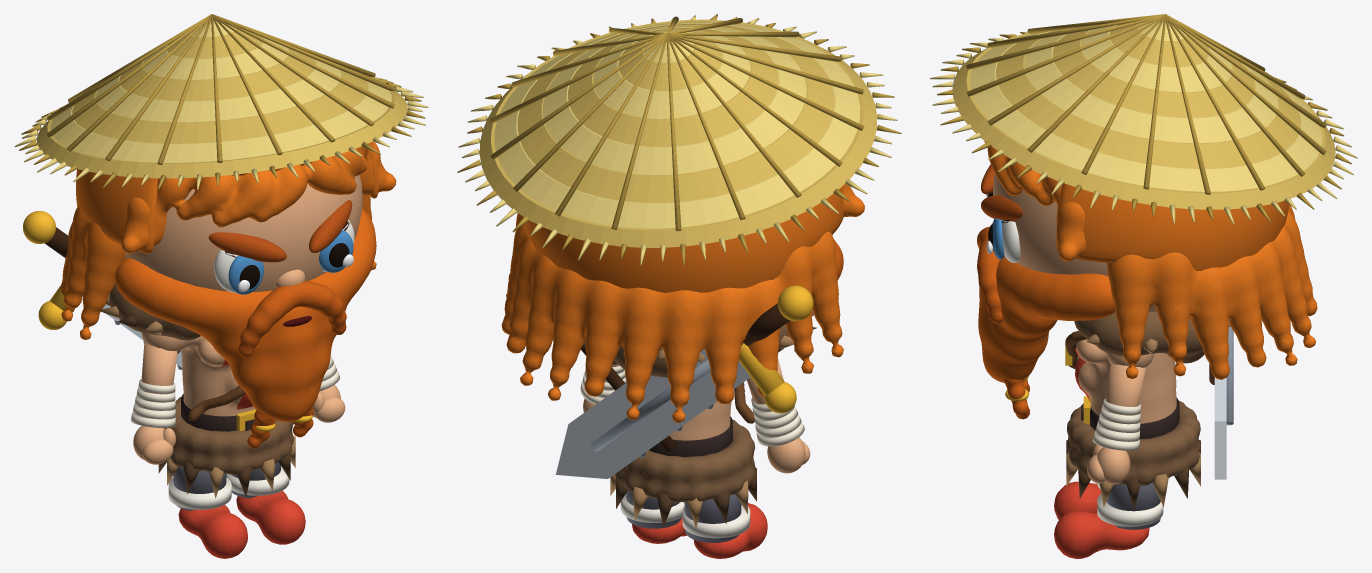
The model's file is iop-berserker-a.glb.
3 renders of one model, left to right at view 1: azimuth 30°, elevation 25°; view 2: azimuth 150°, elevation 25°; view 3: azimuth 270°, elevation 25°, orthographic. The views are drawn at different scales.
Visible parts, largest first — view 1: barbe, meches, crane, cone, cone_bord, cone.001, cone.002, criniere, pagne, cheveux, cone.003, tunique (+35 smaller); view 2: criniere, cone, cheveux, cone.001, cone_bord, cone.002, lame, cone.003, pagne, cone.004, cone.005, botte (+29 smaller); view 3: criniere, cheveux, cone, barbe, cone.001, cone_bord, cone.002, cone.003, pagne, tunique, crane, cone.004 (+30 smaller).
Boxes of the visible parts, x1,y1,x2,y2 form: barbe: [115, 208, 376, 421]; meches: [121, 141, 396, 253]; crane: [127, 175, 362, 291]; cone: [50, 69, 391, 162]; cone_bord: [37, 77, 407, 178]; cone.001: [72, 70, 367, 143]; cone.002: [95, 59, 341, 122]; criniere: [60, 195, 376, 339]; pagne: [164, 397, 293, 475]; cheveux: [76, 142, 378, 253]; cone.003: [119, 48, 315, 100]; tunique: [141, 332, 255, 416]; criniere: [501, 213, 843, 422]; cone: [494, 21, 860, 228]; cheveux: [523, 187, 843, 292]; cone.001: [517, 23, 834, 202]; cone_bord: [479, 19, 877, 247]; cone.002: [542, 25, 806, 174]; lame: [555, 349, 750, 478]; cone.003: [568, 28, 778, 146]; pagne: [615, 420, 755, 502]; cone.004: [593, 30, 750, 118]; cone.005: [618, 32, 722, 90]; botte: [693, 503, 767, 558]; criniere: [1107, 204, 1317, 379]; cheveux: [1056, 183, 1289, 270]; cone: [970, 30, 1322, 191]; barbe: [978, 256, 1115, 382]; cone.001: [995, 27, 1301, 168]; cone_bord: [952, 33, 1335, 209]; cone.002: [1024, 26, 1278, 143]; cone.003: [1052, 29, 1255, 117]; pagne: [1067, 401, 1200, 485]; tunique: [1076, 339, 1176, 423]; crane: [993, 173, 1156, 312]; cone.004: [1081, 25, 1232, 92].
Size of the model in its own units: 2.5 by 3.35 by 2.46.
